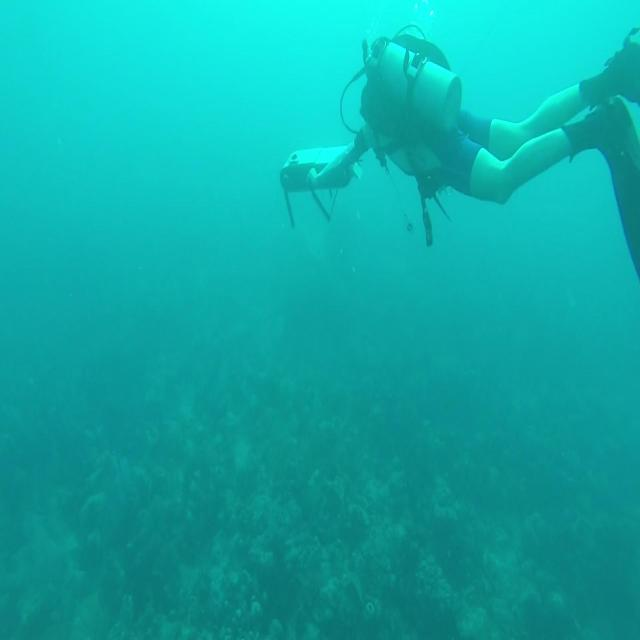human: (284, 23, 639, 276)
